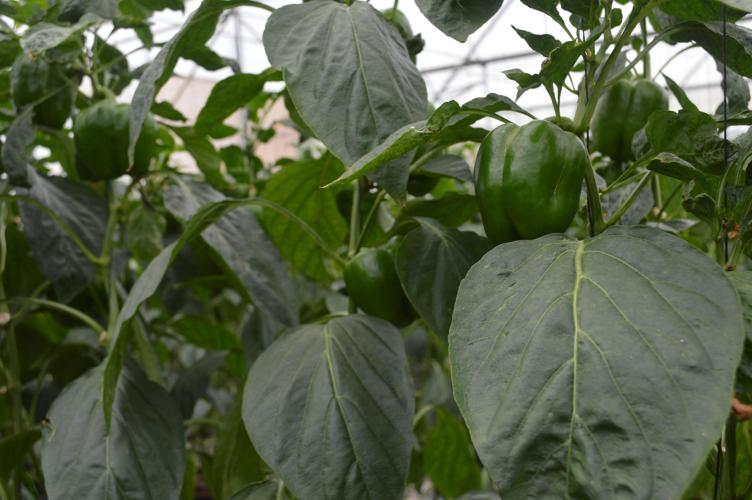BellPepper: (474, 122, 582, 239), (69, 104, 159, 183), (585, 80, 663, 163), (335, 247, 413, 329), (7, 54, 68, 124)
